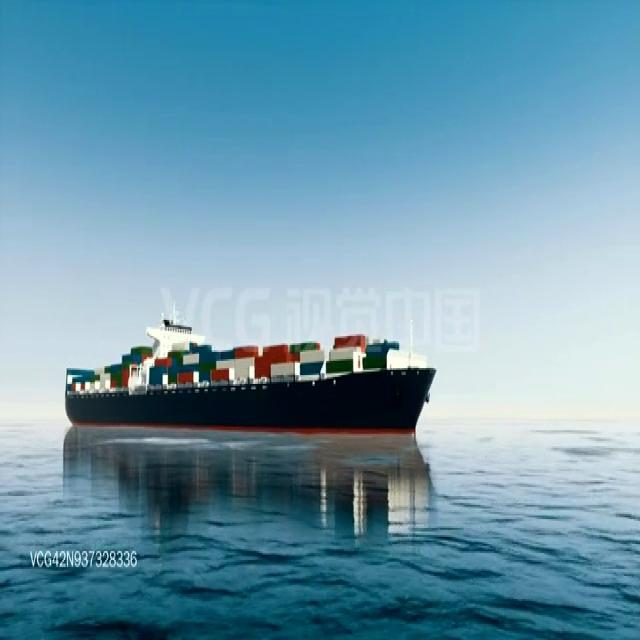cargoship: (60, 305, 437, 439)
